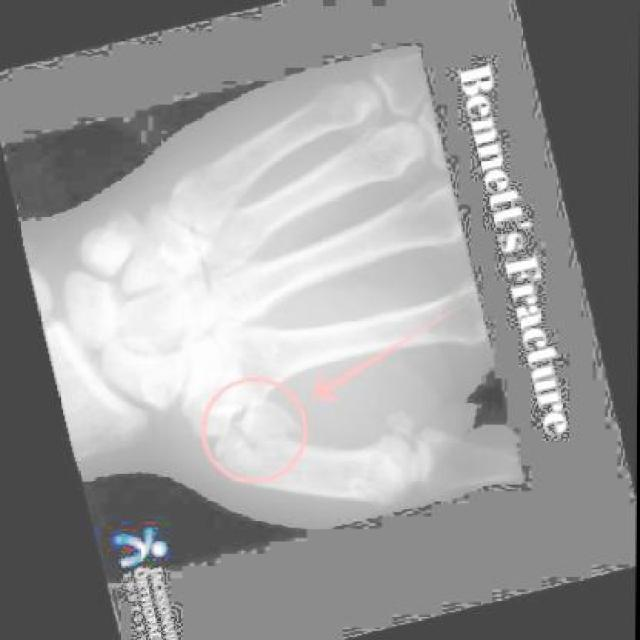Fracture: (217, 385, 304, 465)
